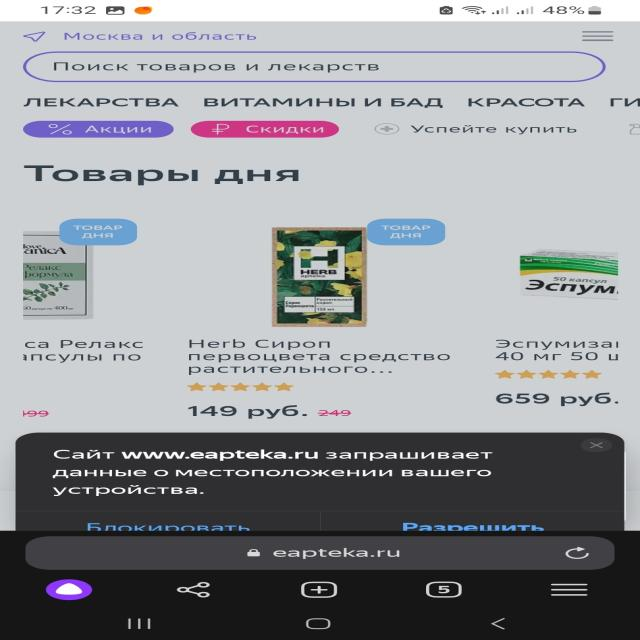button: (59, 514, 294, 534), (371, 514, 577, 534), (584, 438, 617, 453)
system: (13, 433, 630, 534)
